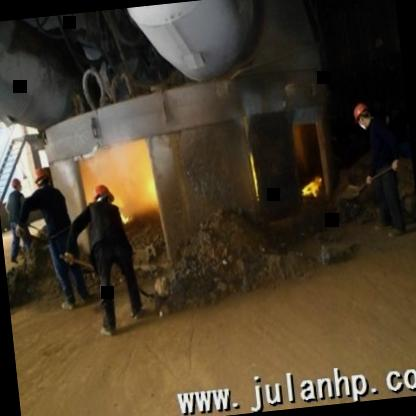helmet: (345, 96, 377, 135), (28, 162, 56, 194), (89, 181, 116, 212), (8, 175, 24, 196)
